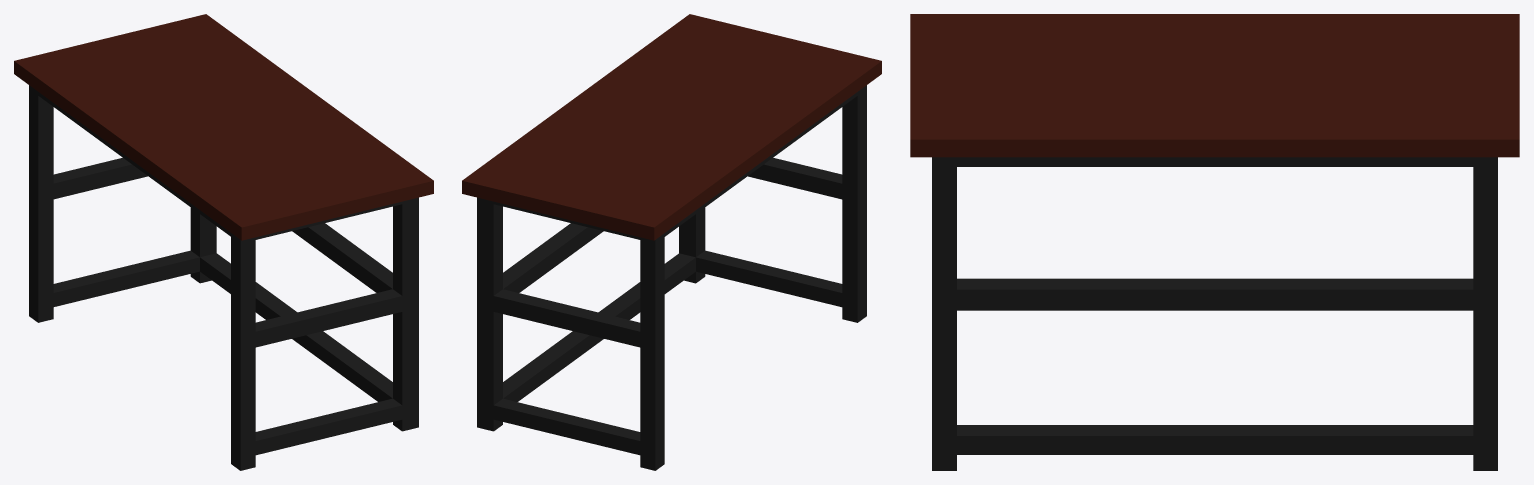
Rendered from Laptop tablePBR .fbx.
3 renders of one model, left to right at view 1: azimuth 30°, elevation 25°; view 2: azimuth 150°, elevation 25°; view 3: azimuth 270°, elevation 25°, orthographic. The views are drawn at different scales.
Parts seen in each view (by area): view 1: polySurface13, polySurface12; view 2: polySurface13, polySurface12; view 3: polySurface13, polySurface12.
Part boxes in pixels (x1,y1,x2,y2): polySurface13: (14, 14, 433, 240); polySurface12: (29, 85, 418, 470); polySurface13: (462, 14, 881, 240); polySurface12: (477, 85, 866, 470); polySurface13: (910, 14, 1519, 157); polySurface12: (932, 157, 1497, 470).
Size of the model in its own units: 0.6566 by 0.8195 by 1.35.
